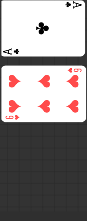4H: (5, 113, 21, 120)
AC: (65, 0, 83, 9)
